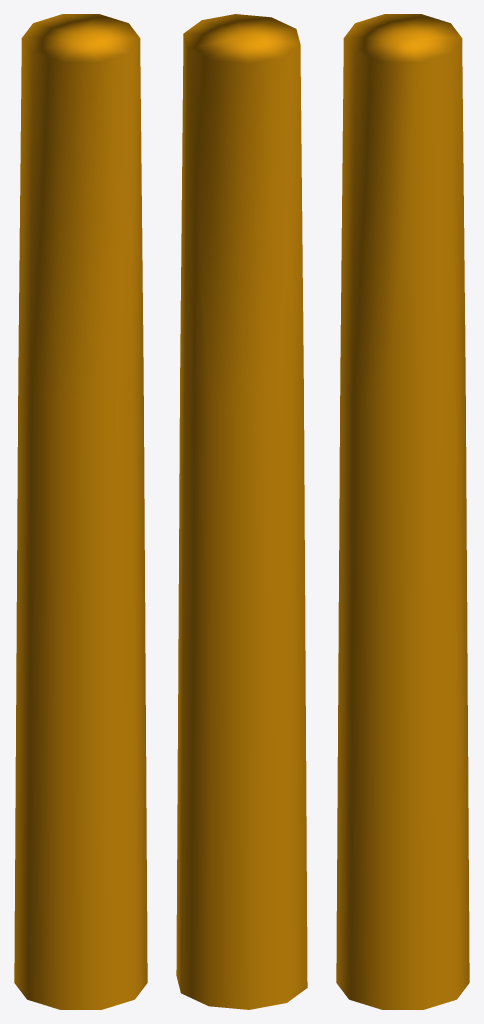
File: Pillar_01B_Lod1.fbx
The picture shows the model from 3 angles, left to right: view 1: azimuth 90°, elevation 25°; view 2: azimuth 150°, elevation 25°; view 3: azimuth 270°, elevation 25°; orthographic projection.
Parts seen in each view (by area): view 1: Pillar_01B_Lod1; view 2: Pillar_01B_Lod1; view 3: Pillar_01B_Lod1.
Boxes of the visible parts, x1,y1,x2,y2 form: Pillar_01B_Lod1: [14, 14, 147, 1009]; Pillar_01B_Lod1: [176, 14, 307, 1009]; Pillar_01B_Lod1: [336, 14, 469, 1009].
Size of the model in its own units: 263 by 2154 by 274.
